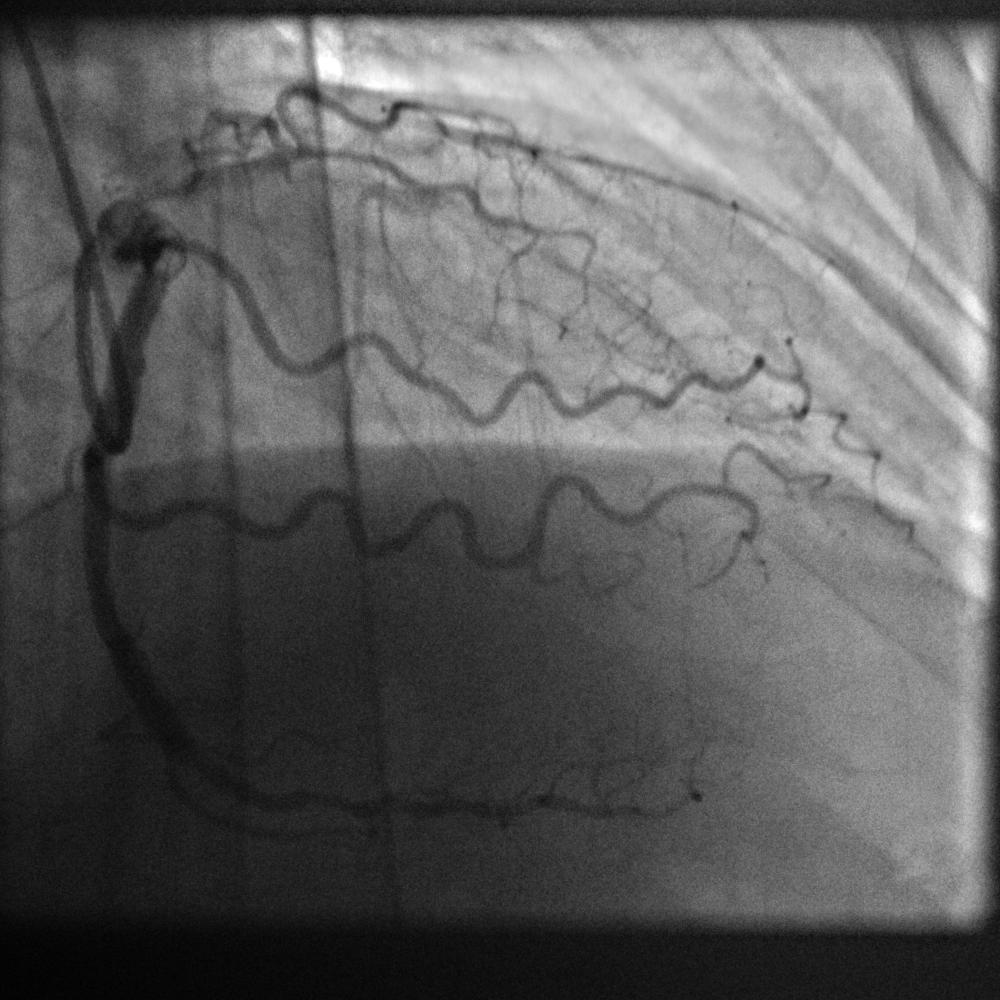Stenosis: (165, 730, 223, 785)
